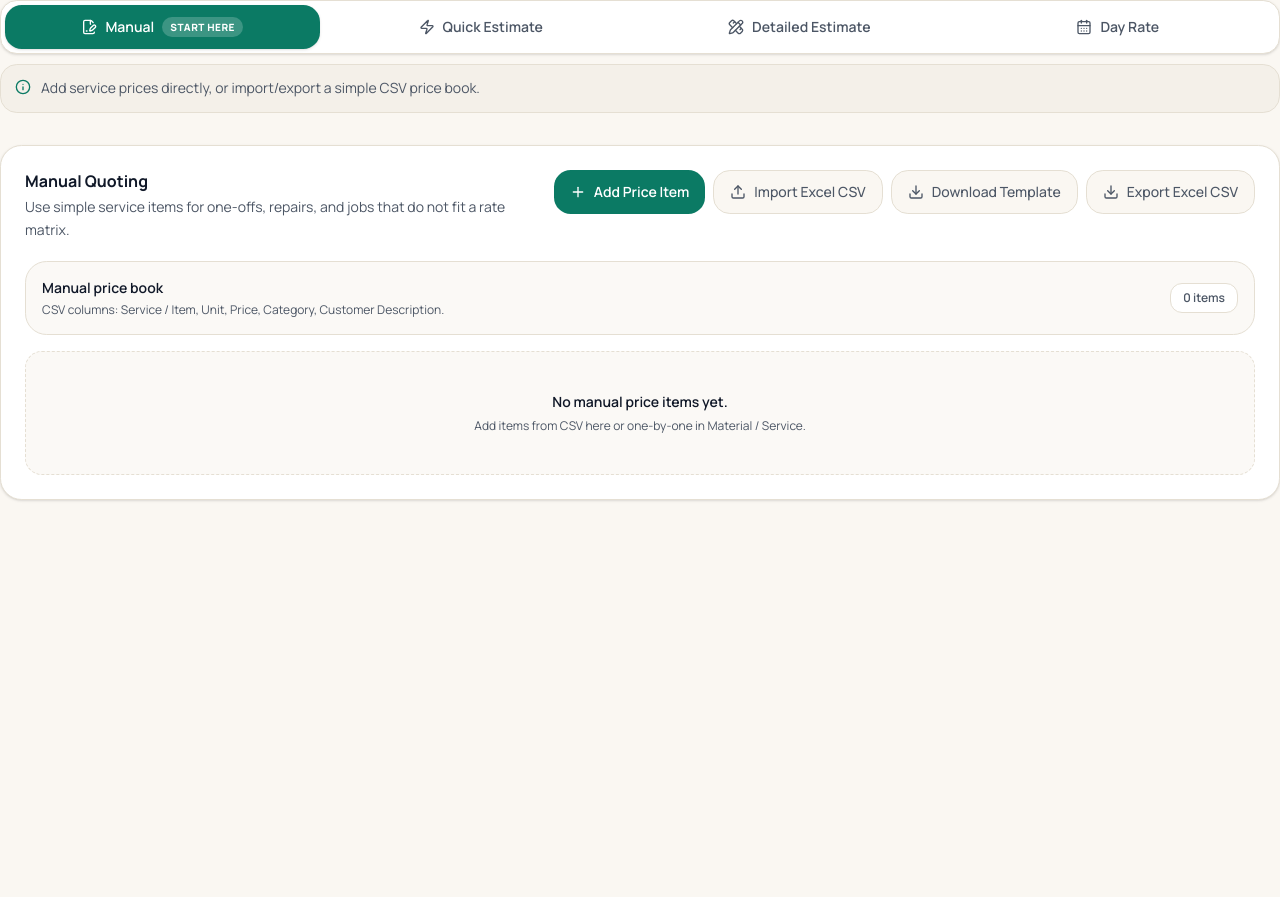
Scenario: PriceRatesForm pricing setup › lets painters edit a Room Price Library item name by clicking it
Click the tab "Quick Estimate". click: (481, 27)
box: [324,5,638,49]
(page scrolled)
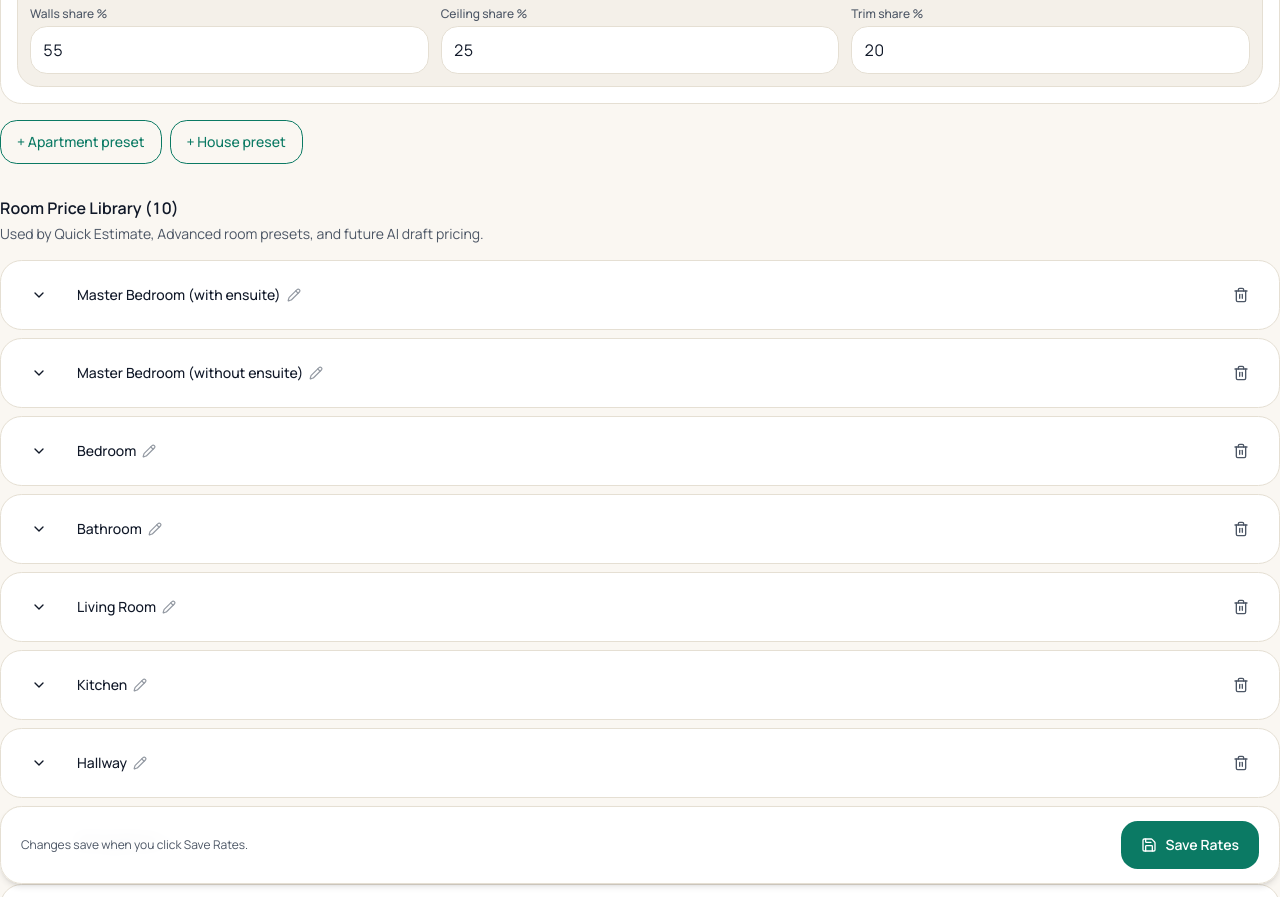
Click the button with aria-label "Edit Bedroom name". click: (117, 451)
box: [69,429,164,473]
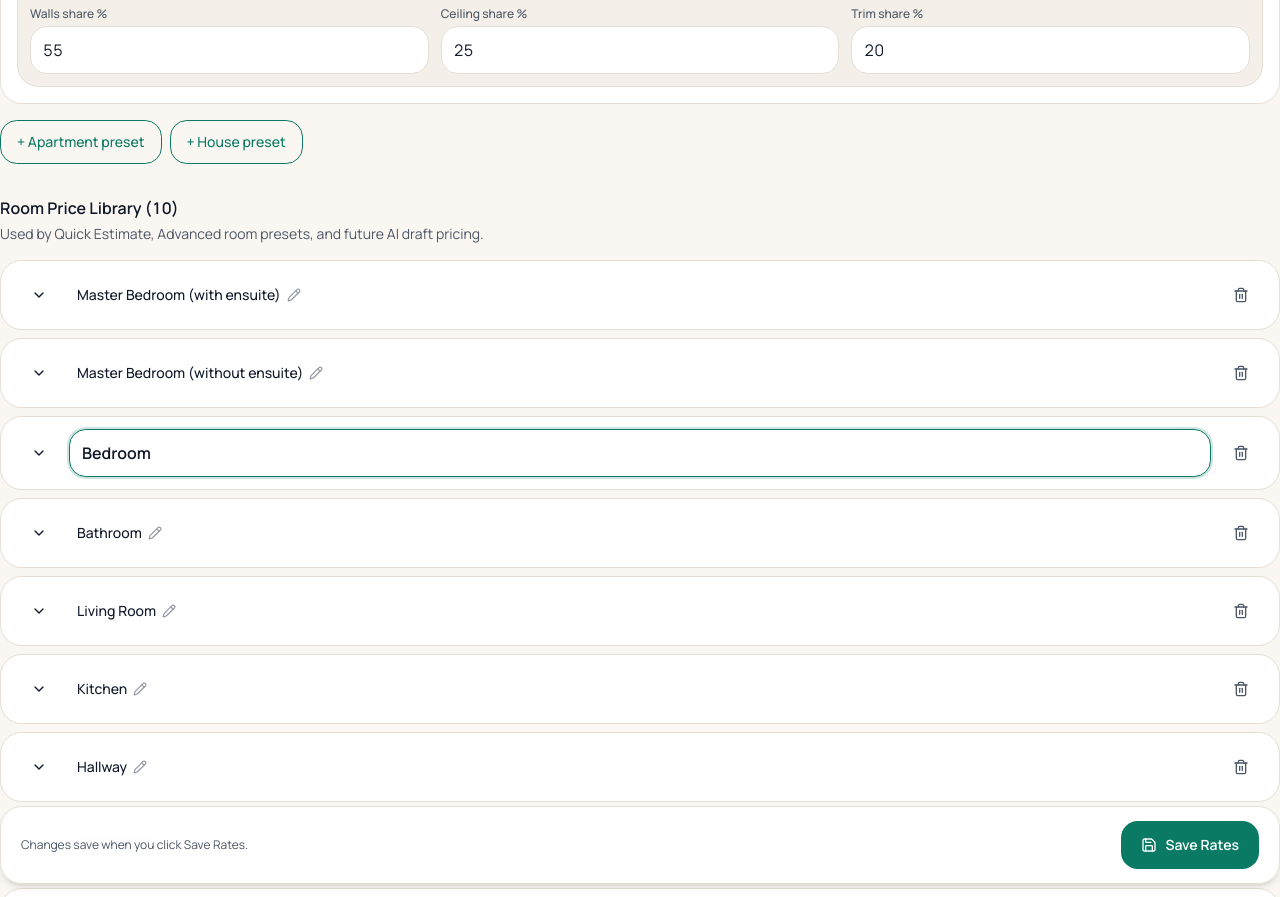
Replace the text in the field named "Room Price Library item name" with "Bedroom repaint". click: (640, 453)
box: [69,429,1211,477]
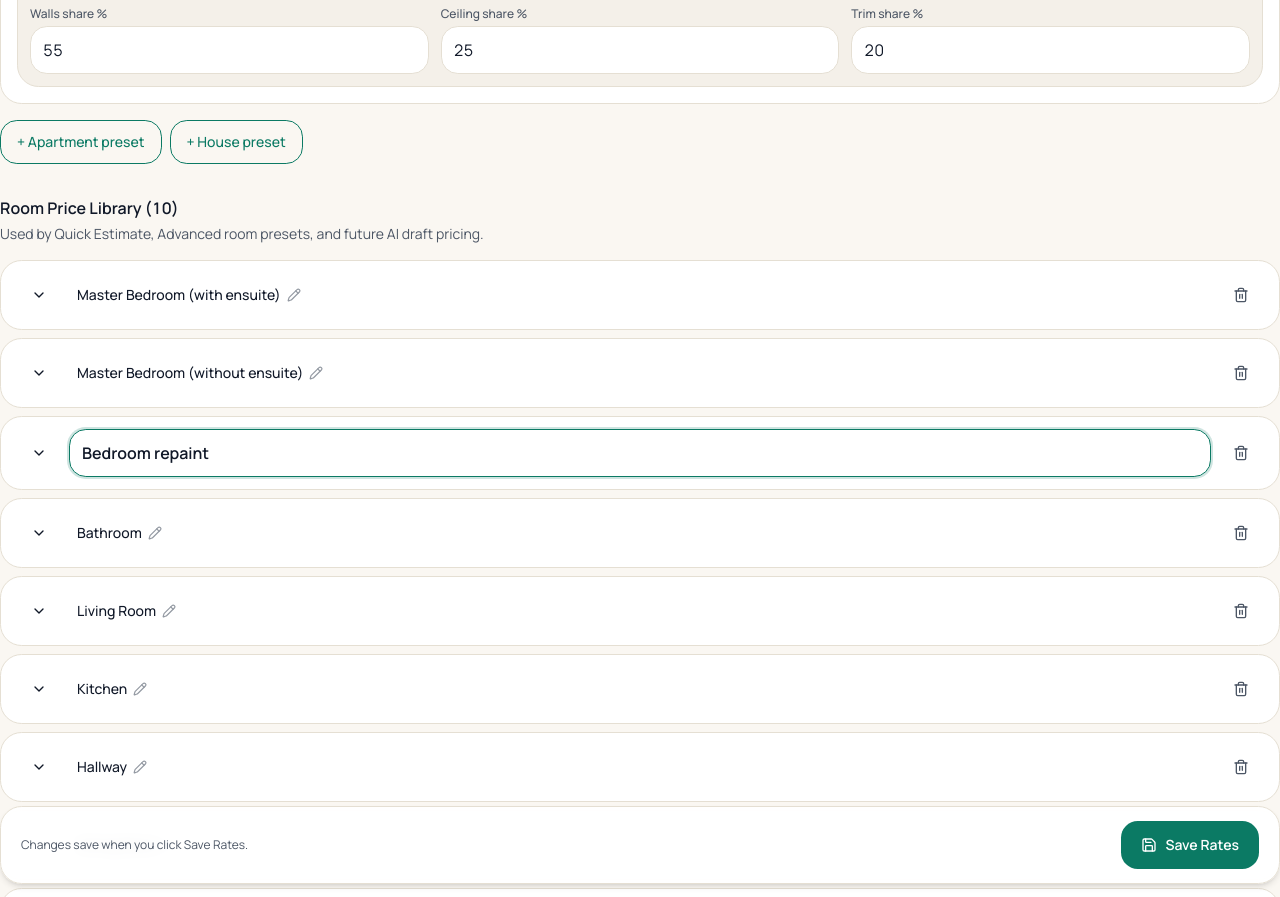
Press Tab
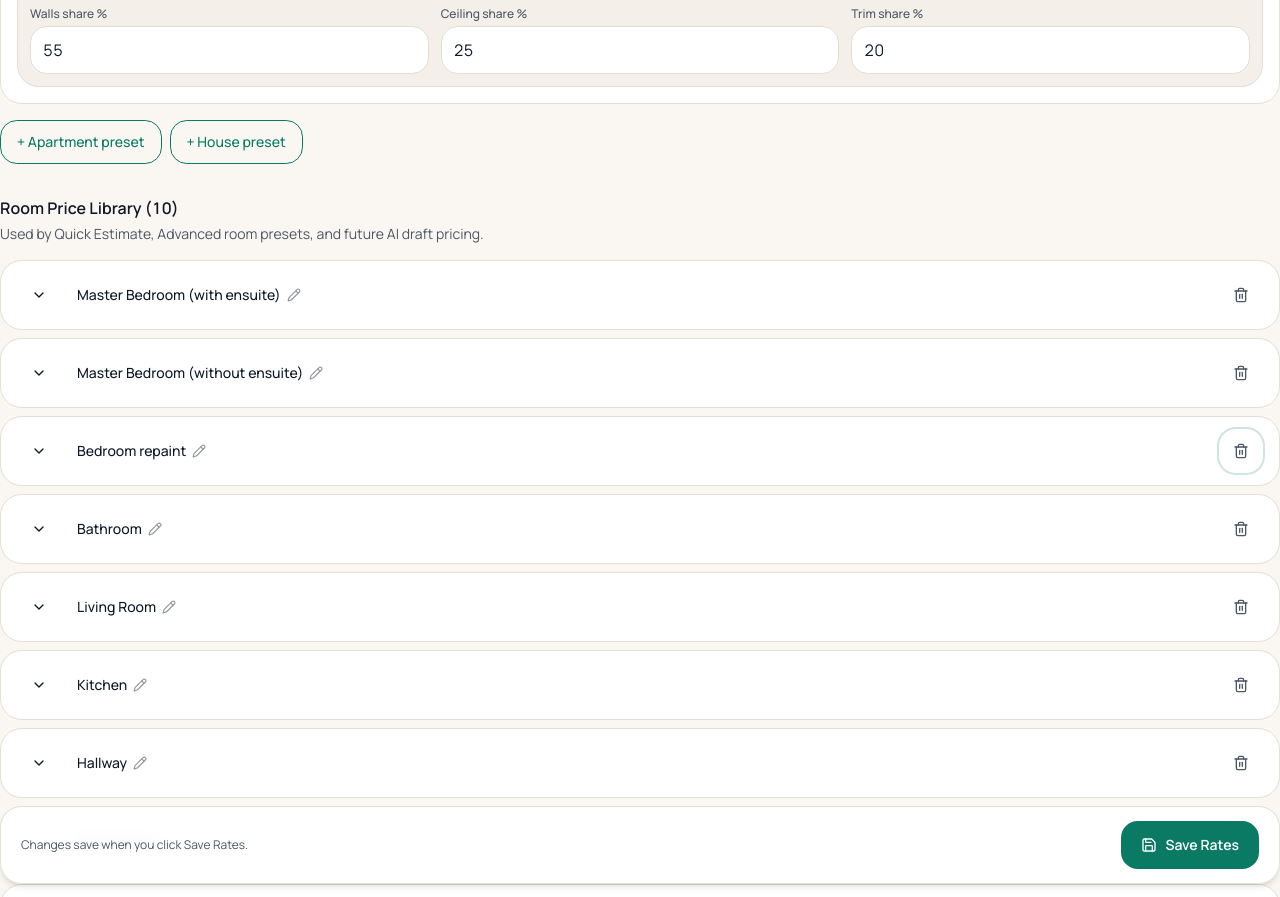
Result: the button with aria-label "Edit Bedroom repaint name" is shown at [69,429,214,473]
